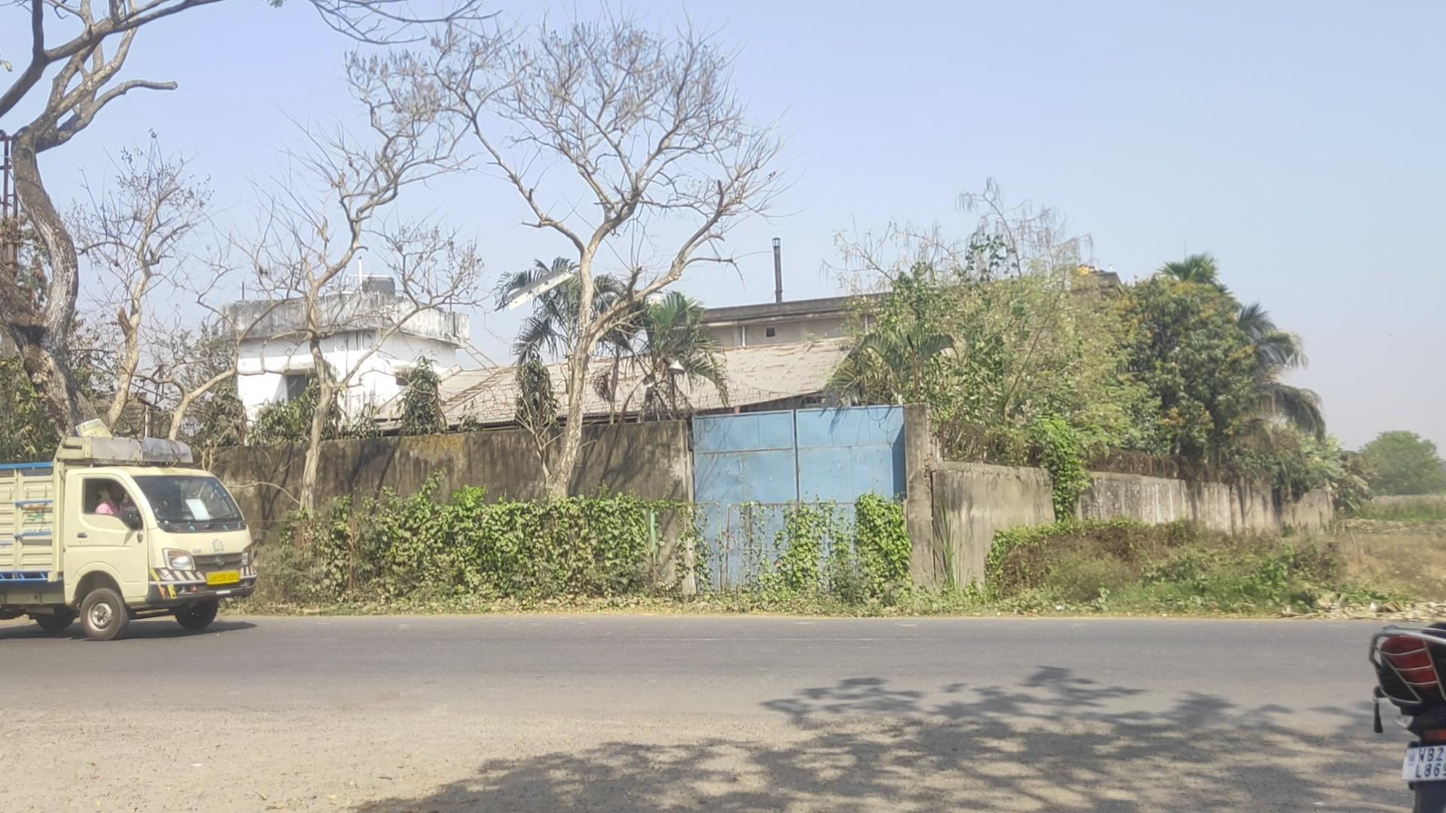van: (1, 433, 258, 642)
